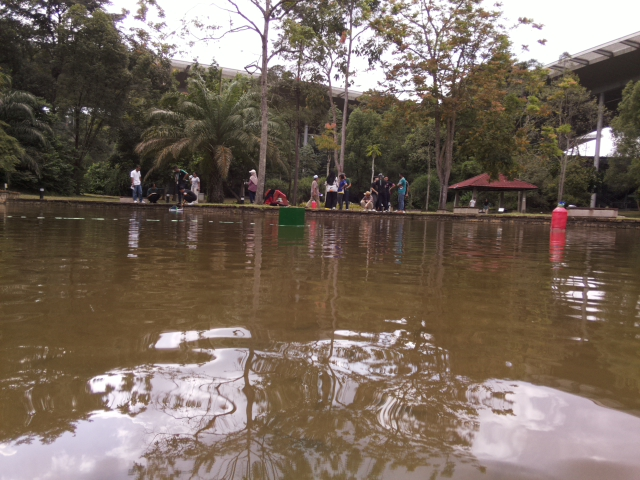obstacle: (278, 206, 308, 228)
